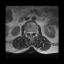CCS_normal: (30, 29, 32, 36)
LFS_normal: (33, 29, 35, 34)
LLS_normal: (32, 29, 33, 35)
RFS_normal: (27, 29, 28, 35)
RLS_normal: (28, 29, 30, 35)
